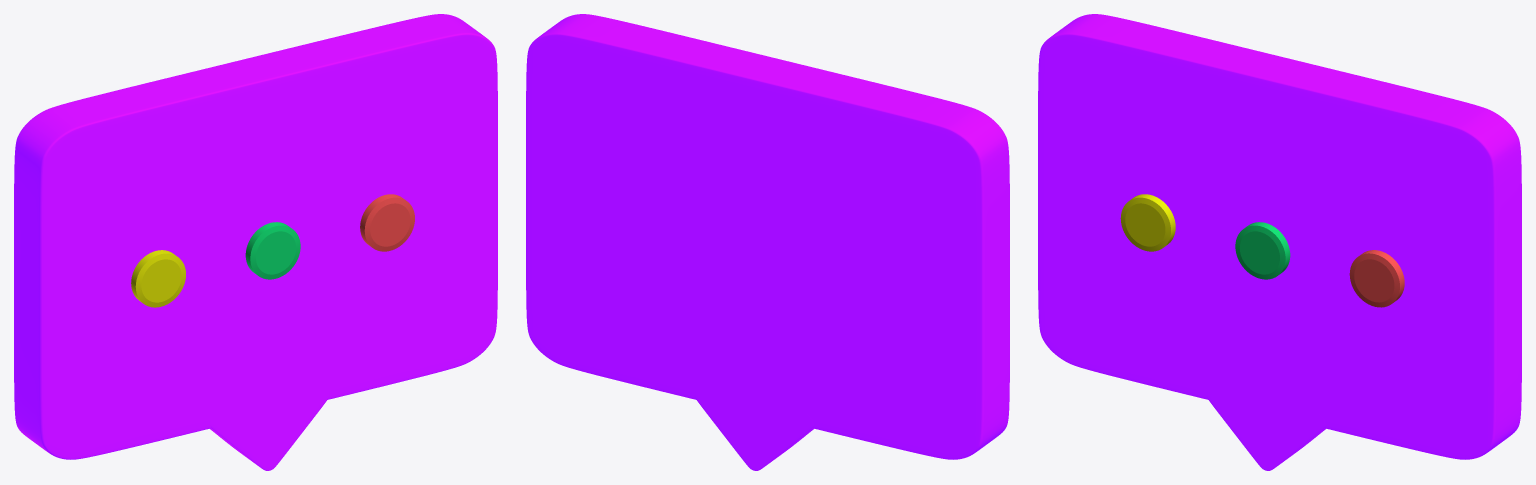
The model's file is social.gltf.
3 views of the same model, side by side, from view 1: azimuth 30°, elevation 25°; view 2: azimuth 150°, elevation 25°; view 3: azimuth 330°, elevation 25° (orthographic).
Parts seen in each view (by area): view 1: Rounded Cube Flat, Rounded Cube Flat 2, Cylinder 3, Cylinder 4, Cylinder 5; view 2: Rounded Cube Flat, Rounded Cube Flat 2; view 3: Rounded Cube Flat, Rounded Cube Flat 2, Cylinder 4, Cylinder 3, Cylinder 5.
Boxes of the visible parts, x1=… form: Rounded Cube Flat: x1=14, y1=14, x2=497, y2=459; Rounded Cube Flat 2: x1=210, y1=352, x2=329, y2=470; Cylinder 3: x1=360, y1=194, x2=414, y2=251; Cylinder 4: x1=245, y1=222, x2=300, y2=279; Cylinder 5: x1=131, y1=250, x2=185, y2=307; Rounded Cube Flat: x1=526, y1=14, x2=1009, y2=459; Rounded Cube Flat 2: x1=694, y1=374, x2=813, y2=470; Rounded Cube Flat: x1=1038, y1=14, x2=1521, y2=459; Rounded Cube Flat 2: x1=1206, y1=352, x2=1325, y2=470; Cylinder 4: x1=1235, y1=222, x2=1290, y2=279; Cylinder 3: x1=1349, y1=250, x2=1404, y2=307; Cylinder 5: x1=1120, y1=194, x2=1175, y2=251.
Bounding box in the file's own units: 0.3587 × 0.2931 × 0.0461.
